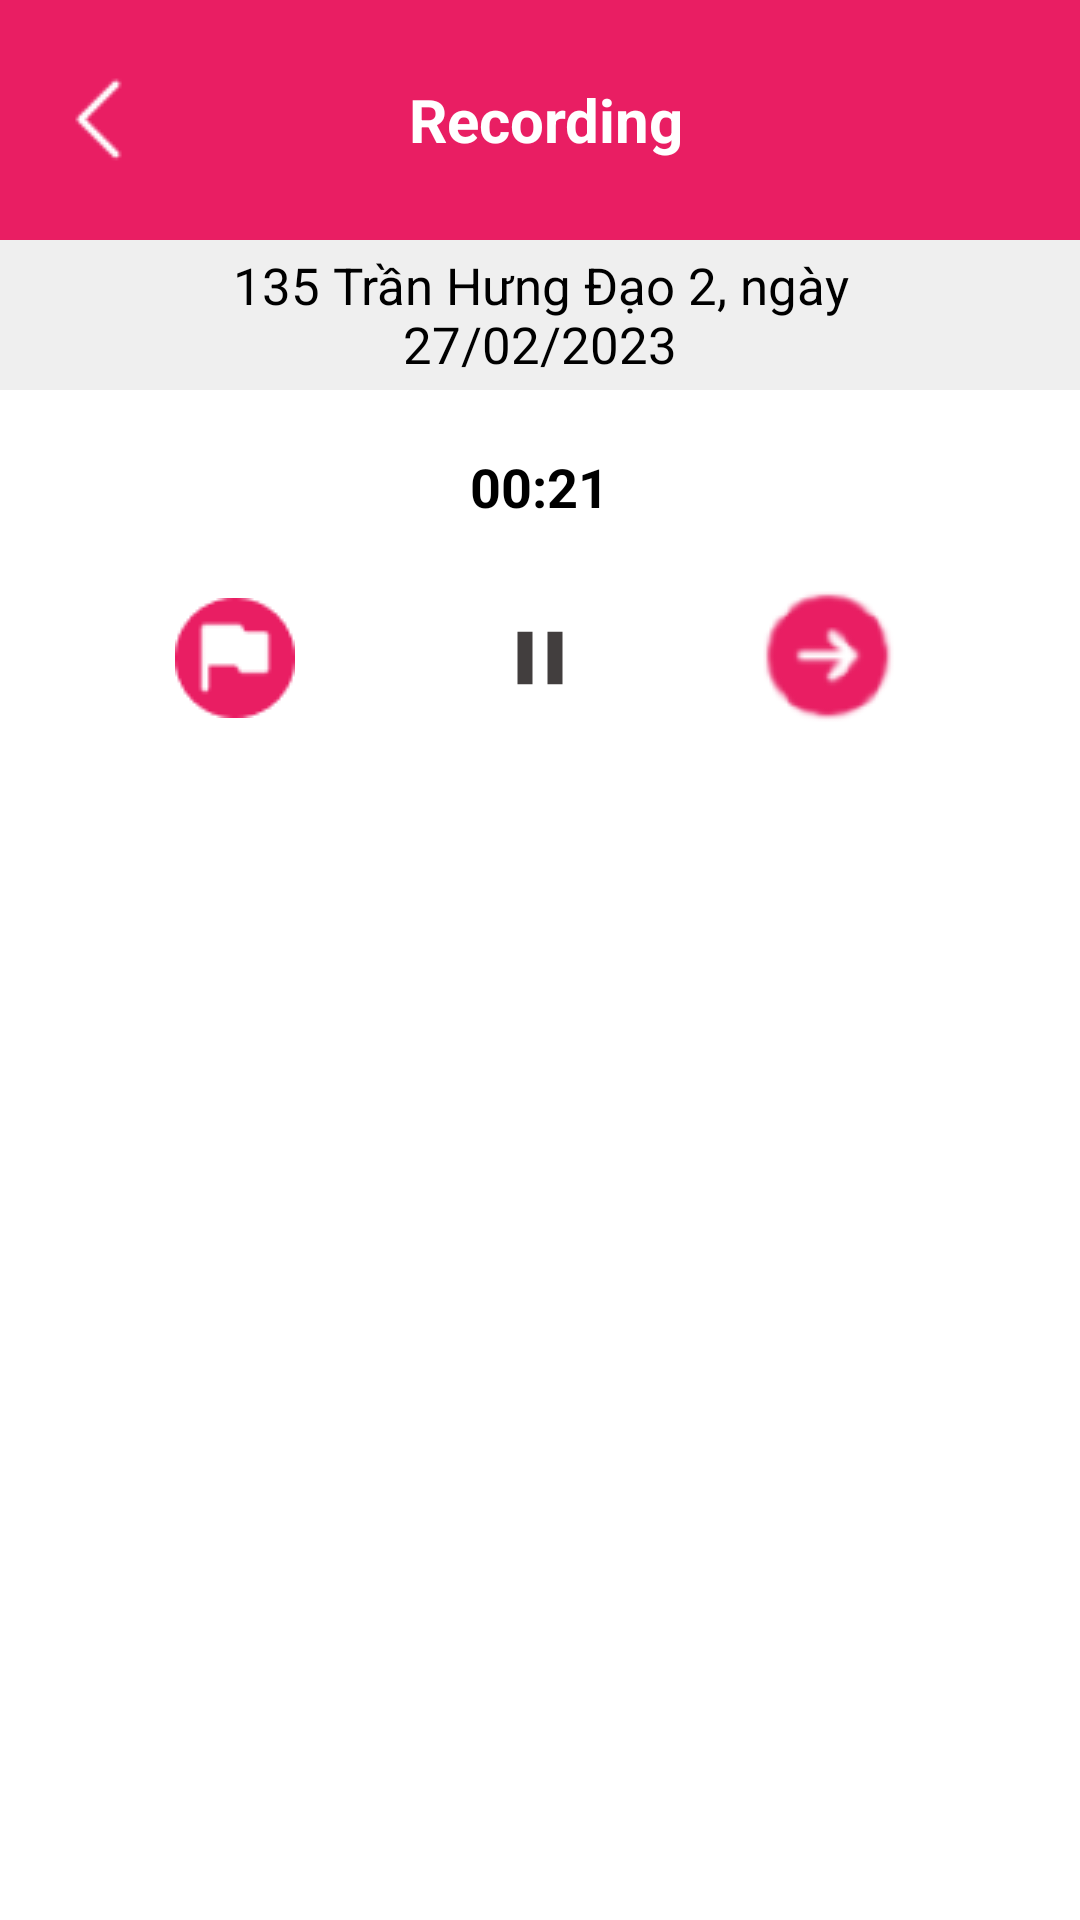

Locate icon controls on the screen. Image size 1080×1920, boxes as detection(x1, y1, x2, y2).
back: detection(75, 79, 122, 159)
mark: detection(175, 598, 295, 718)
pause: detection(517, 631, 563, 685)
right: detection(766, 594, 891, 719)
